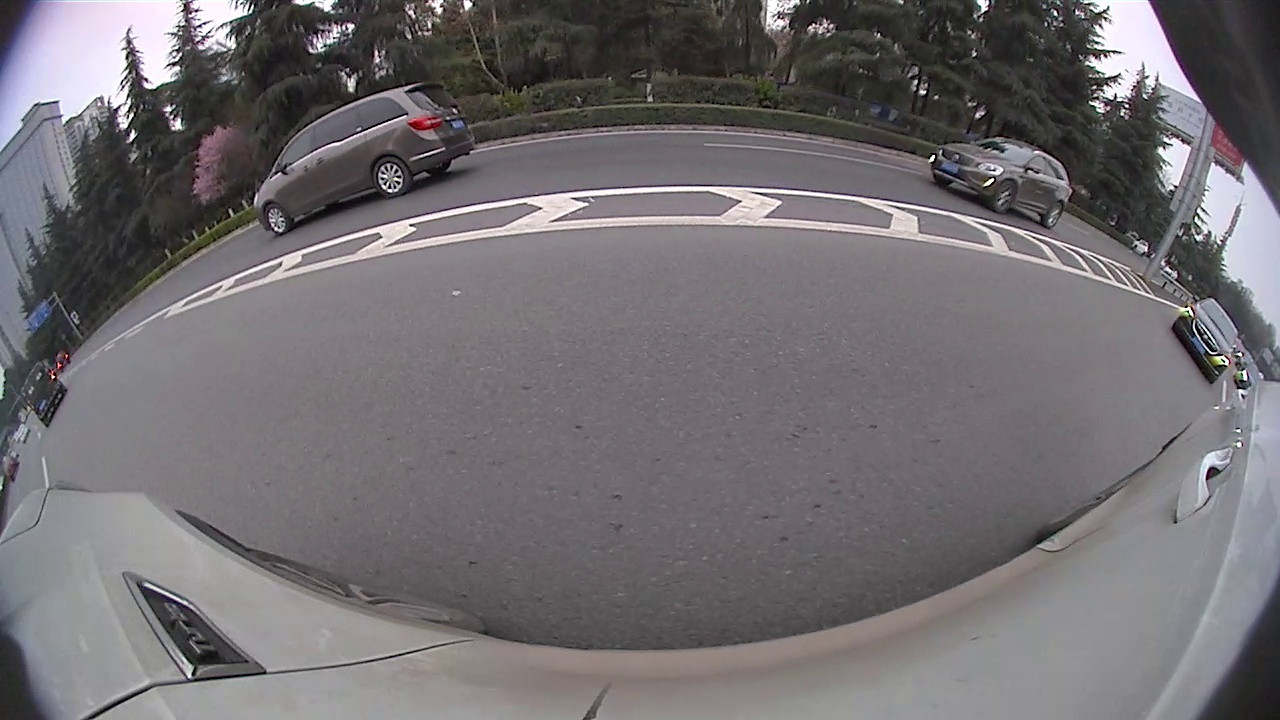bus: (829, 94, 1147, 289), (1119, 182, 1195, 322)
car: (185, 150, 482, 317), (445, 138, 558, 214), (601, 138, 698, 213), (701, 136, 777, 203), (544, 159, 587, 195), (798, 166, 836, 195)
front: (457, 199, 477, 235), (854, 188, 874, 218), (546, 176, 557, 200)
rear: (326, 234, 373, 296), (956, 207, 998, 259), (517, 183, 532, 213)
